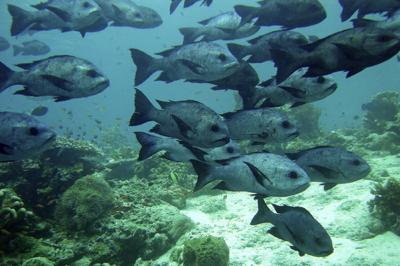Lutjanidae -Snappers-: (266, 22, 399, 87), (126, 84, 231, 148), (247, 190, 335, 259), (0, 53, 116, 104), (192, 149, 314, 197), (127, 39, 241, 87), (4, 0, 102, 36)
